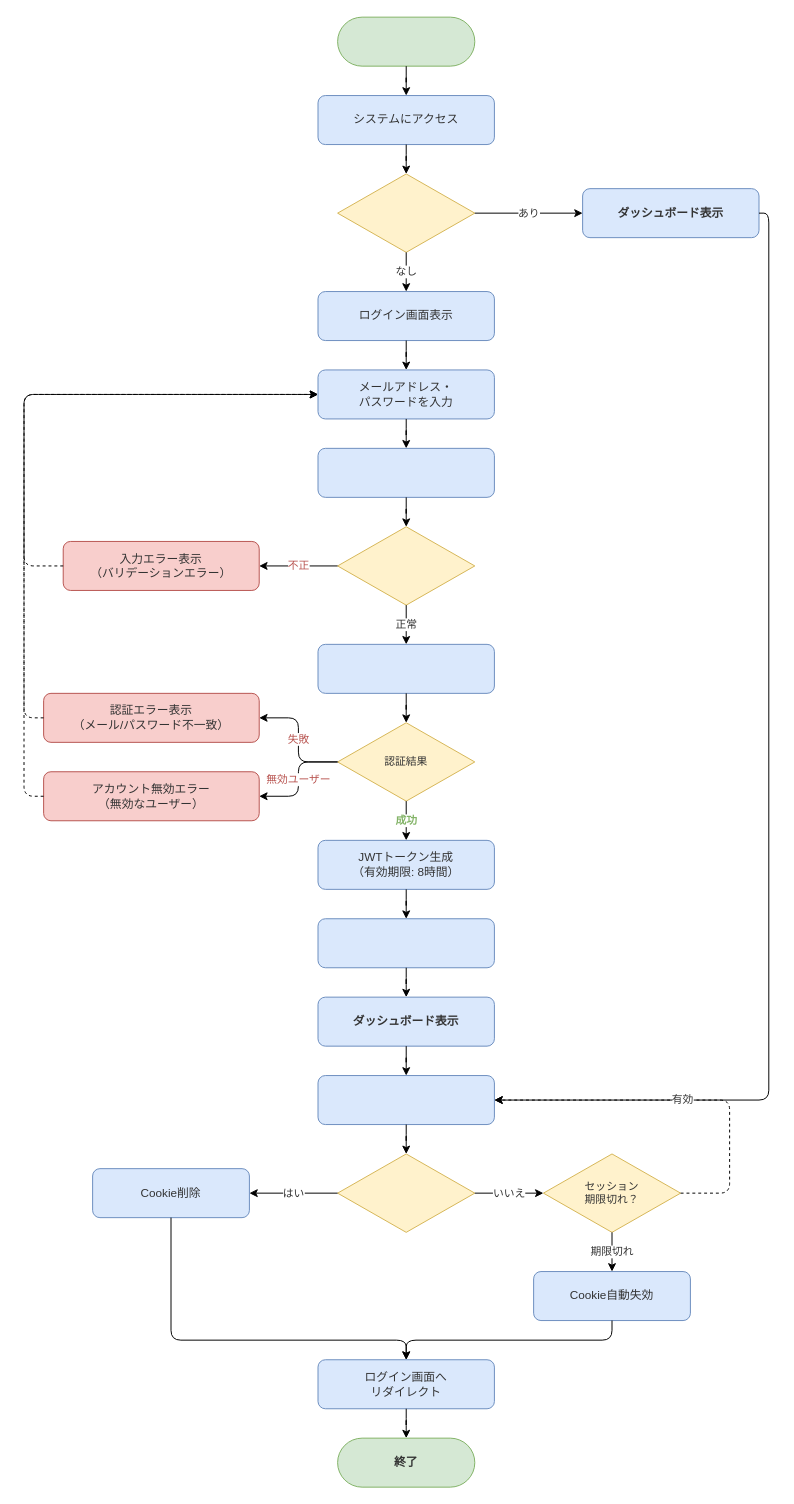
This 794x1504 diagram has some shape labels left out. The shapes that lost their labels are listed below. From the top down, each one's centre as x and y in pixels, then its label:
pixel 406 41: 開始
pixel 406 212: 有効な セッション あり？
pixel 405 472: ログインボタン押下
pixel 406 565: 入力値 バリデーション
pixel 405 668: 認証処理 （サーバーサイド）
pixel 405 943: httpOnly Cookie に トークン設定
pixel 405 1100: システム利用
pixel 406 1192: ログアウト 押下？
